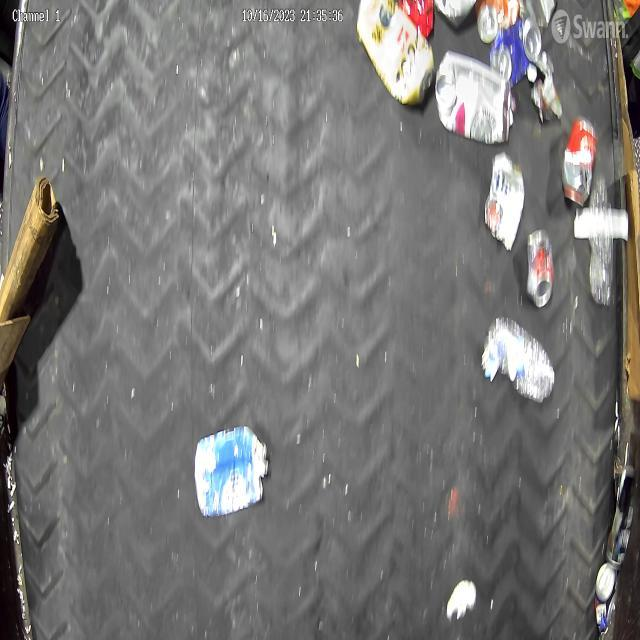can: (484, 151, 526, 252), (489, 16, 542, 90), (561, 114, 597, 208), (526, 228, 554, 308), (474, 0, 520, 44), (594, 561, 618, 637)
plastic_bottle: (482, 315, 556, 403), (588, 172, 614, 307)
